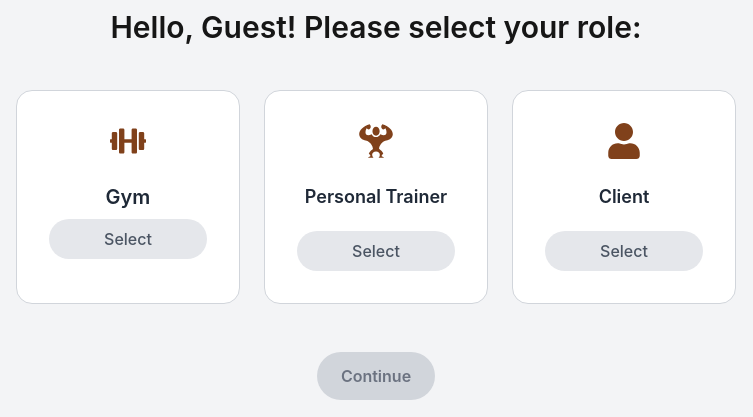
it: SelectRole › enables the Continue button when a role is selected
Check: the button "Continue" is disabled, box [317, 352, 435, 400]
Click the heading "Gym" at (128, 196), box [106, 182, 150, 210]
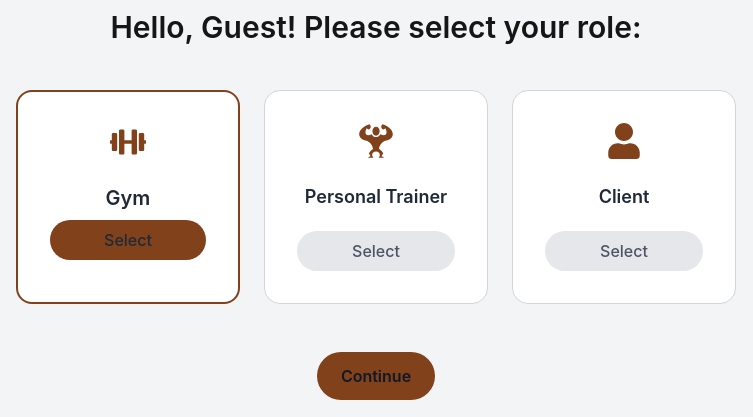
Check: the button "Continue" is enabled, box [317, 352, 435, 400]
